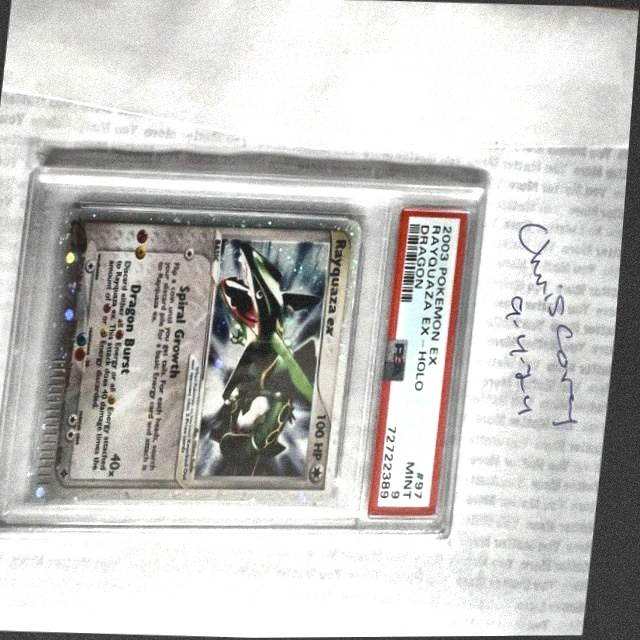card: (35, 204, 367, 505)
